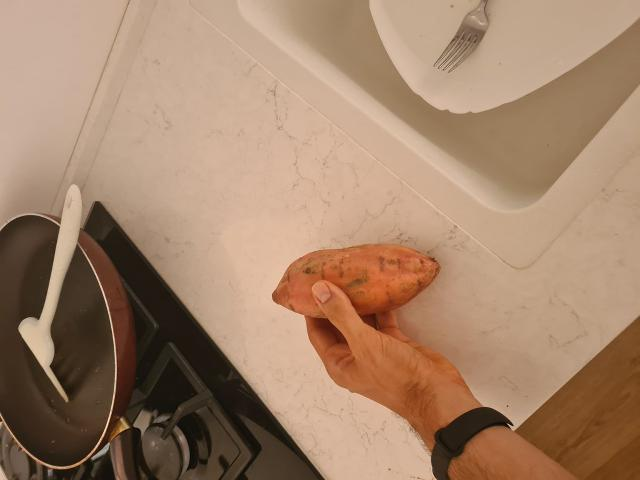sweet_potato: (277, 252, 441, 320)
